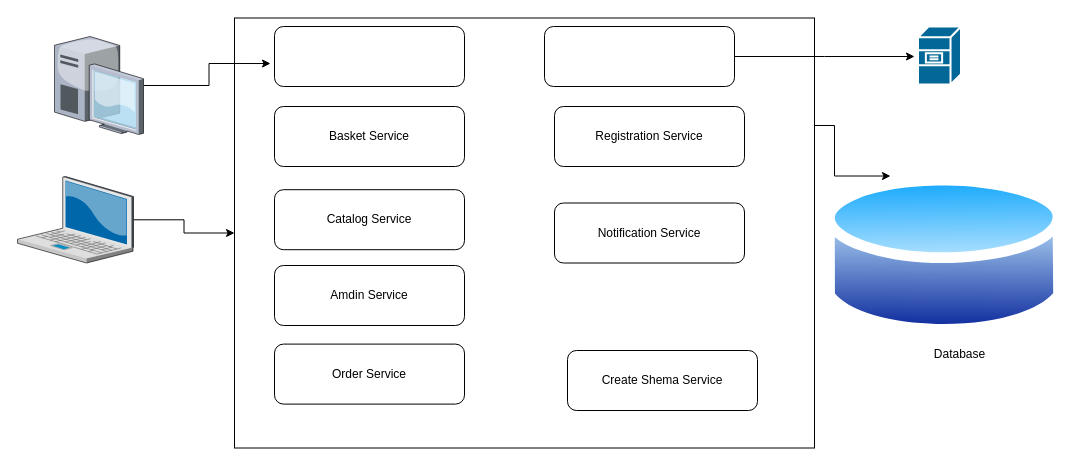
The diagram is 1081 pixels wide and 465 high, and some of its shapes have lost their labels. Here are the shapes that lost their labels. From the top down, the centre of each, then its label:
At pixel 369 56: "Authentication Service".
At pixel 639 56: "Configuration".
